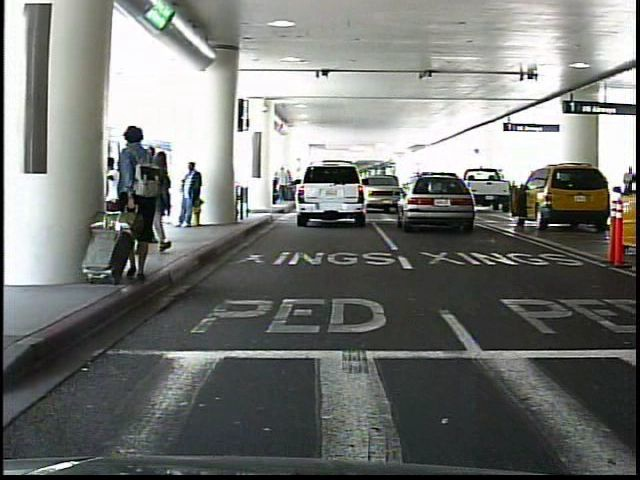person: (116, 123, 167, 286), (178, 158, 206, 232), (142, 145, 162, 239), (615, 163, 635, 214)
